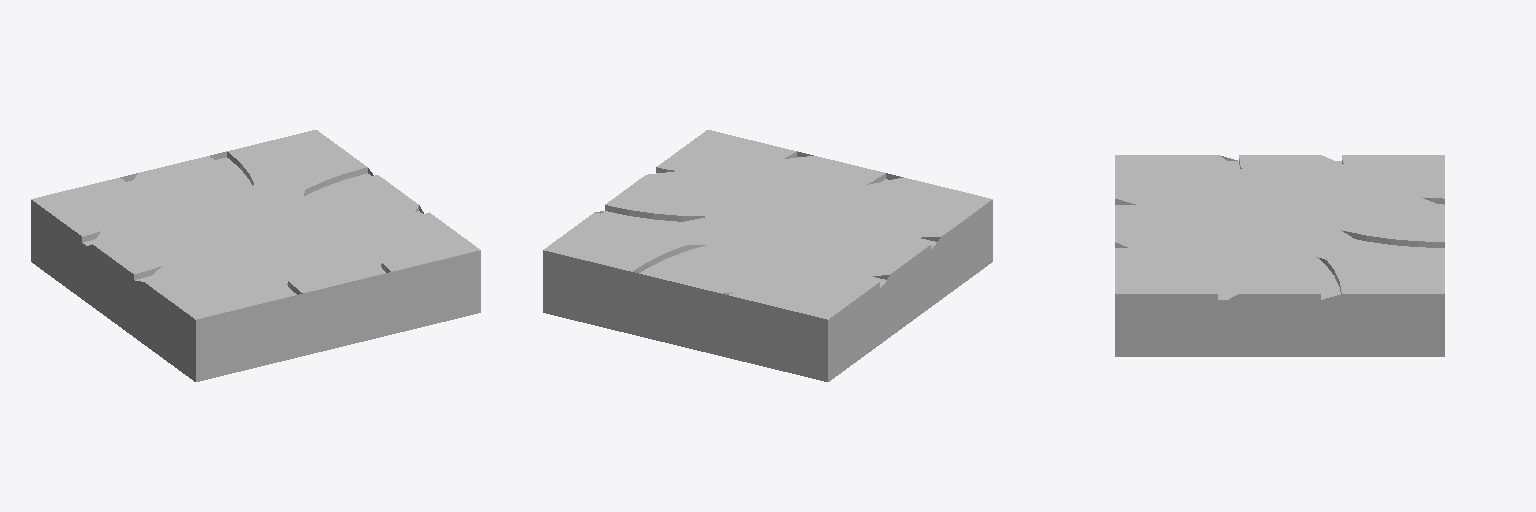
The model's file is roadTile_088.obj.
3 views of the same model, side by side, from view 1: azimuth 30°, elevation 25°; view 2: azimuth 150°, elevation 25°; view 3: azimuth 270°, elevation 25° (orthographic).
Visible parts, largest first — view 1: Mesh1 Group1 Model; view 2: Mesh1 Group1 Model; view 3: Mesh1 Group1 Model.
Part boxes in pixels (x1,y1,x2,y2): Mesh1 Group1 Model: (31,130,480,381); Mesh1 Group1 Model: (543,130,992,381); Mesh1 Group1 Model: (1115,155,1444,356).
Bounding box in the file's own units: 3 × 0.63 × 3.